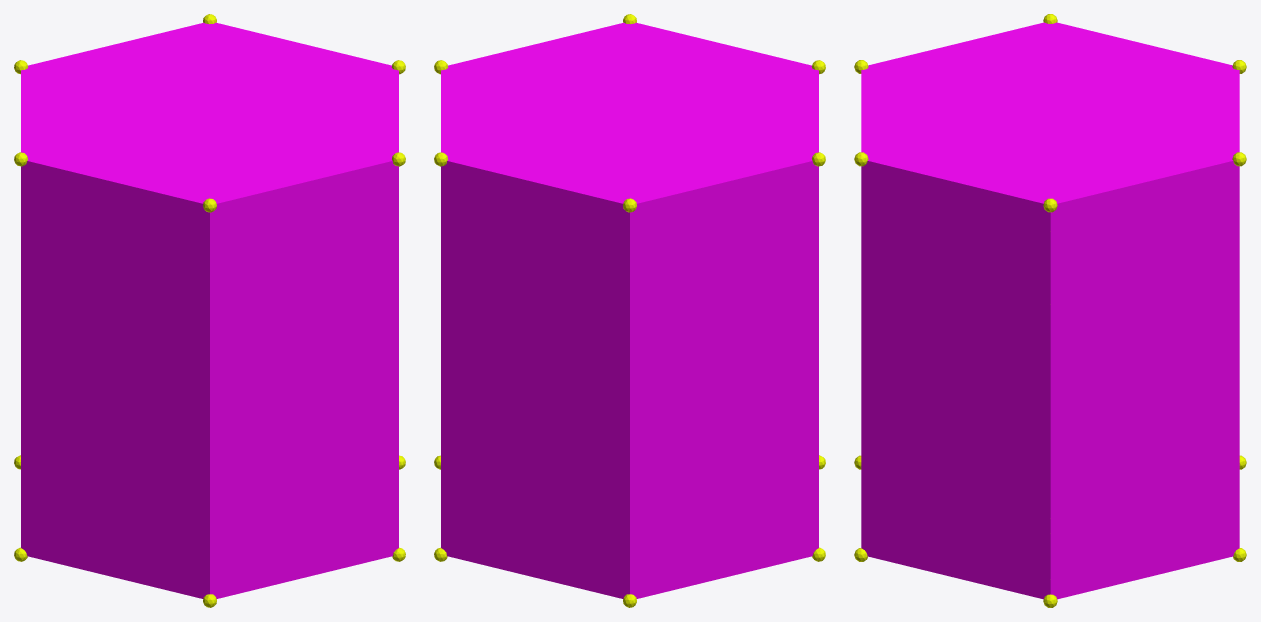
File: hexagono_vertices.glb
3 views of the same model, side by side, from view 1: azimuth 30°, elevation 25°; view 2: azimuth 150°, elevation 25°; view 3: azimuth 270°, elevation 25° (orthographic).
Visible parts, largest first — view 1: Hexagono, vertices; view 2: Hexagono, vertices; view 3: Hexagono, vertices.
Boxes of the visible parts, bbox=[...] form: Hexagono: bbox=[21, 22, 398, 598]; vertices: bbox=[14, 14, 405, 607]; Hexagono: bbox=[441, 22, 818, 598]; vertices: bbox=[434, 14, 825, 607]; Hexagono: bbox=[861, 22, 1239, 599]; vertices: bbox=[854, 14, 1246, 607].
Bounding box in the file's own units: 0.7862 × 0.7874 × 0.6853.
